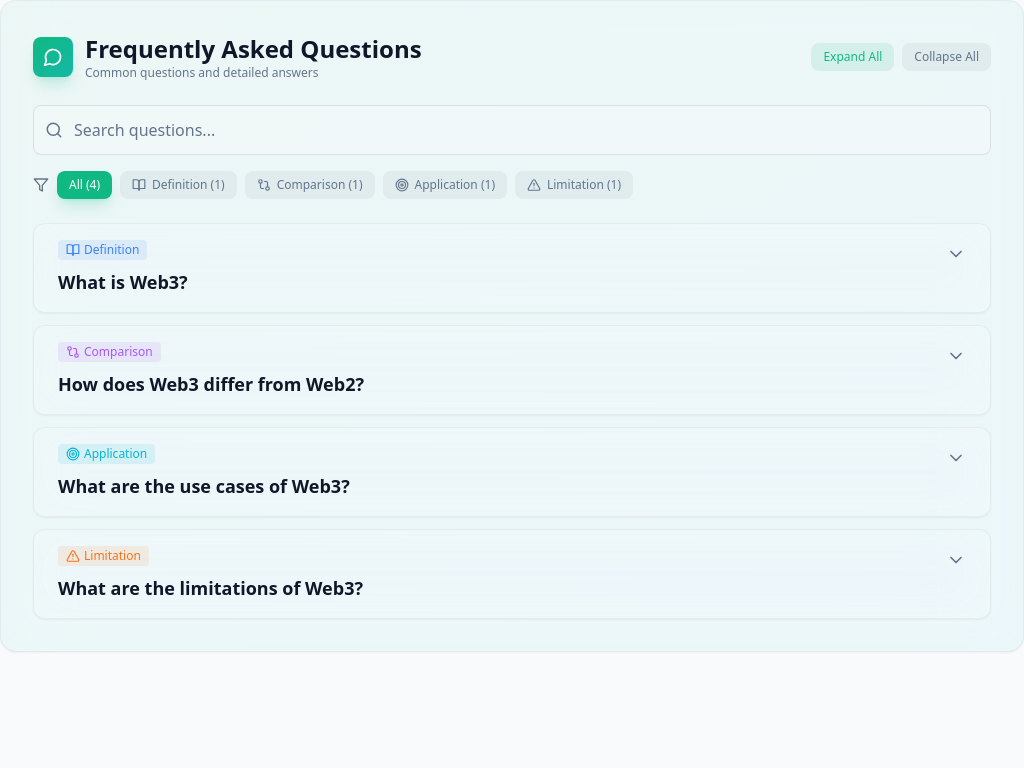
Test case: QASection Component › should expand and collapse Q&A items
Check: the text "Web3 is the next generation of the internet built on blockchain technology." is not shown
Click the button "Definition What is Web3?": (103, 250) [34,224,990,312]
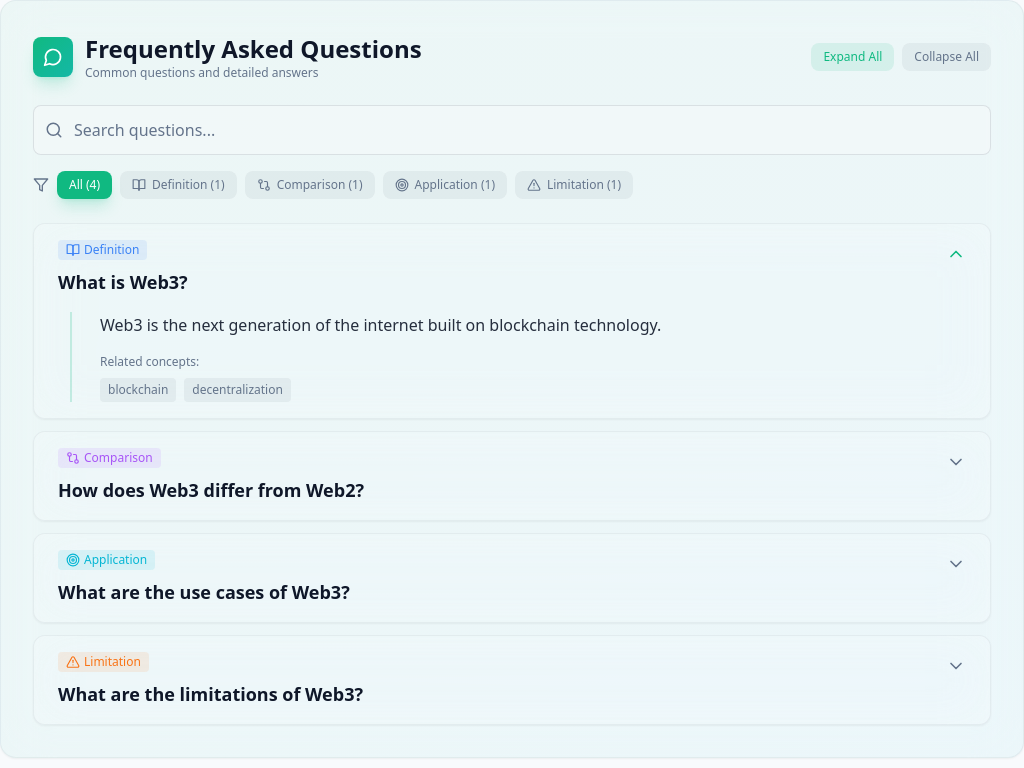
Check: the text "Web3 is the next generation of the internet built on blockchain technology." is shown, box [100,314,661,336]
Click the button "Definition What is Web3?": (103, 250) [34,224,990,312]
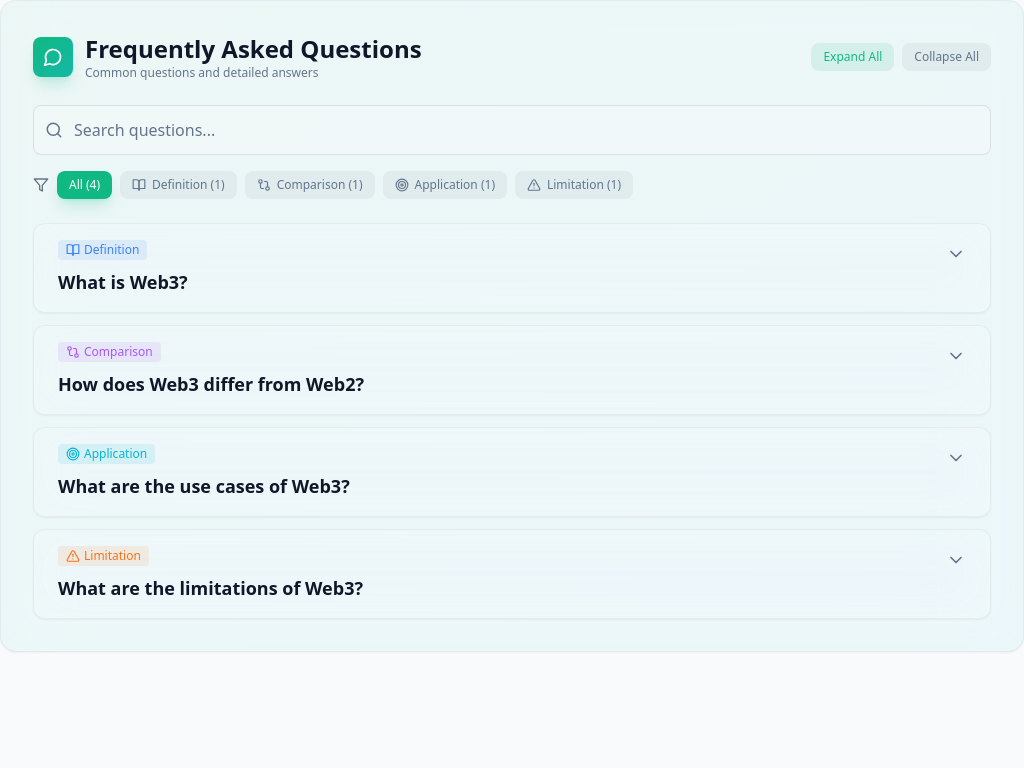
Check: the text "Web3 is the next generation of the internet built on blockchain technology." is gone
